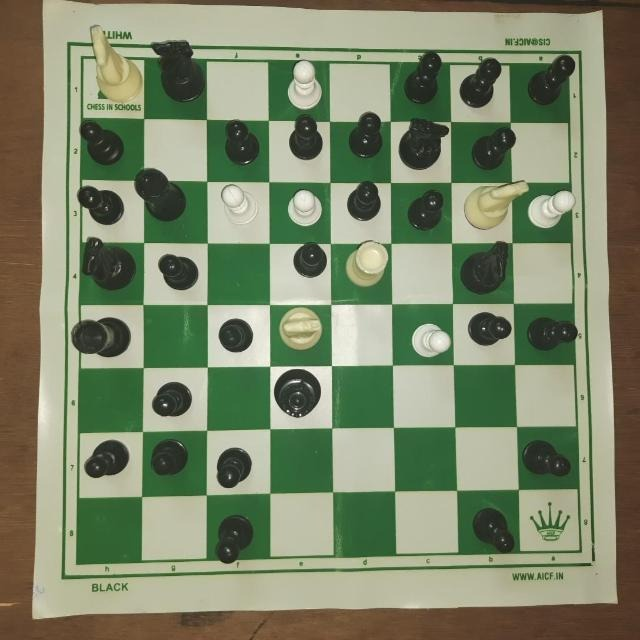black-knight: (76, 234, 140, 294), (149, 39, 206, 104), (458, 239, 515, 297), (396, 116, 452, 170)
black-pawn: (472, 495, 522, 556), (526, 51, 576, 108), (147, 248, 211, 292), (76, 181, 131, 232), (457, 57, 509, 109), (76, 115, 128, 166), (525, 309, 577, 359), (343, 108, 391, 162), (80, 435, 134, 483), (518, 437, 573, 483), (402, 51, 446, 108), (211, 514, 261, 564), (211, 441, 259, 493), (215, 308, 266, 356), (152, 435, 199, 487), (467, 122, 517, 169), (339, 180, 389, 226), (467, 304, 517, 348), (406, 188, 451, 234), (148, 380, 196, 422), (222, 118, 262, 165), (287, 111, 326, 158), (291, 239, 332, 280)
black-queen: (269, 363, 325, 428)
black-rook: (64, 311, 132, 361), (133, 167, 191, 222)
white-knight: (87, 20, 145, 106), (464, 177, 529, 232), (274, 300, 327, 355)
white-pawn: (283, 60, 330, 112), (404, 317, 453, 365), (216, 180, 263, 230), (281, 183, 331, 229), (529, 189, 576, 229)
white-rook: (345, 234, 395, 290)
